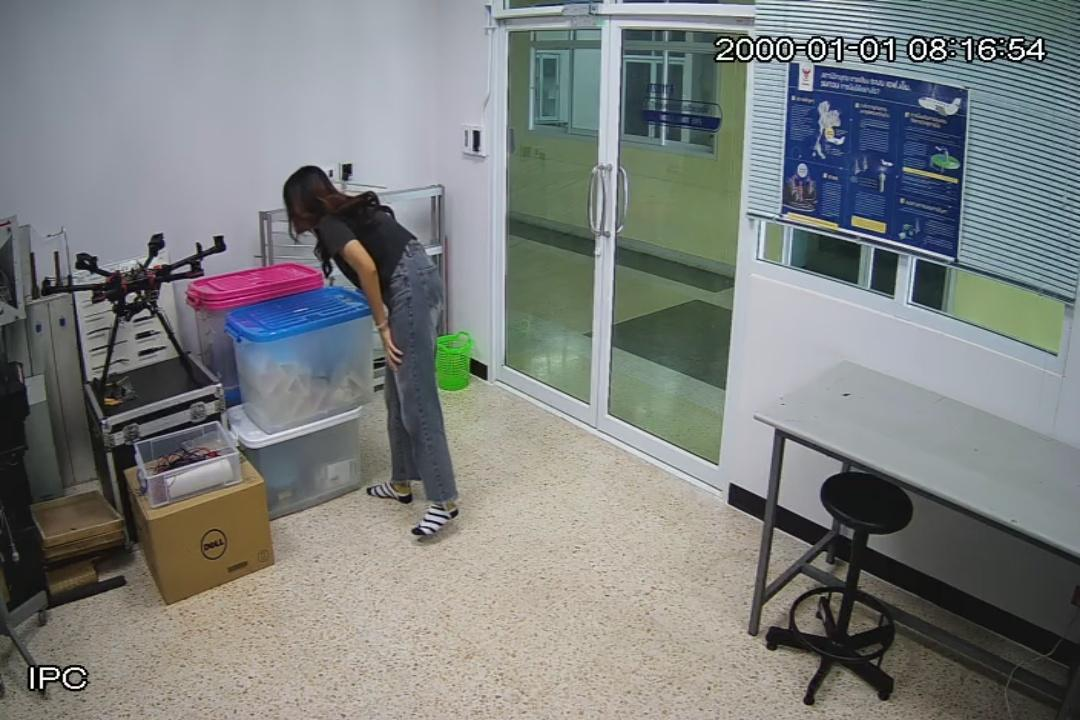normal: (278, 160, 466, 550)
